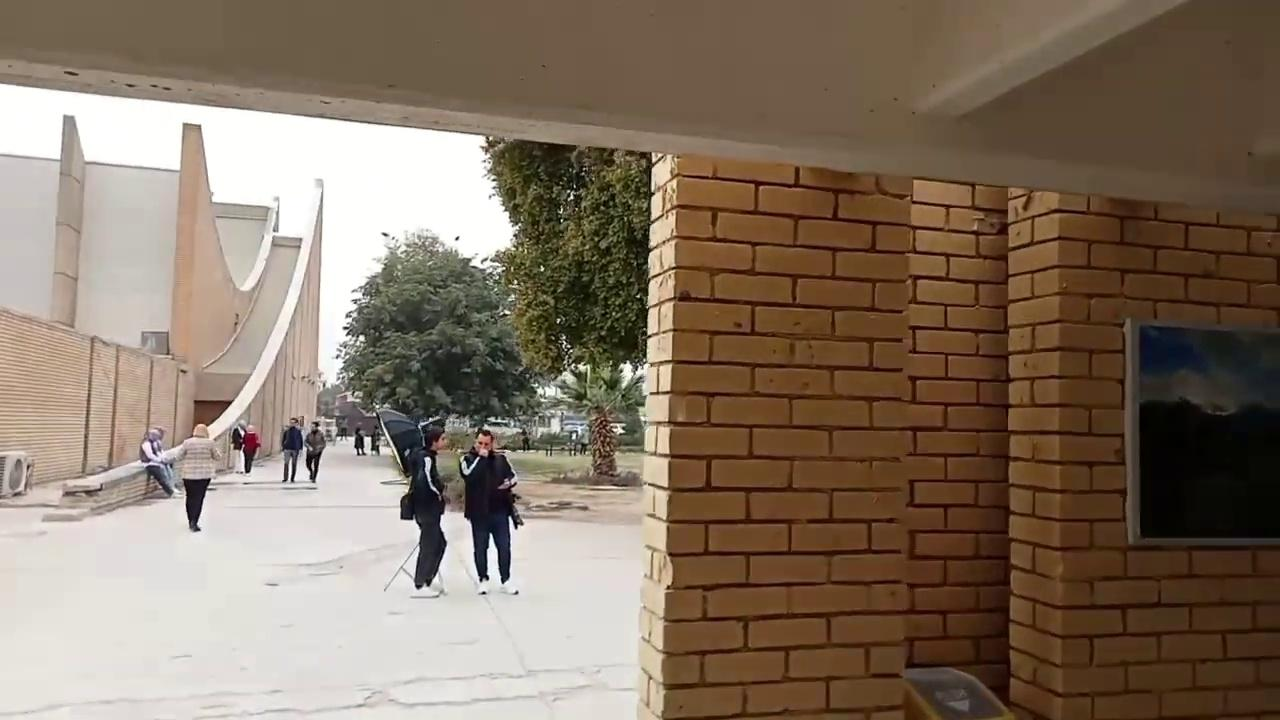person: (458, 428, 523, 595), (405, 427, 449, 593), (159, 423, 221, 531), (138, 426, 176, 497), (280, 417, 302, 482), (304, 421, 326, 482), (240, 423, 260, 473), (230, 419, 246, 473), (353, 426, 365, 455), (370, 425, 380, 455), (569, 429, 577, 456), (521, 430, 529, 451)
tree: (332, 226, 541, 433), (479, 133, 651, 383), (551, 359, 645, 476)
